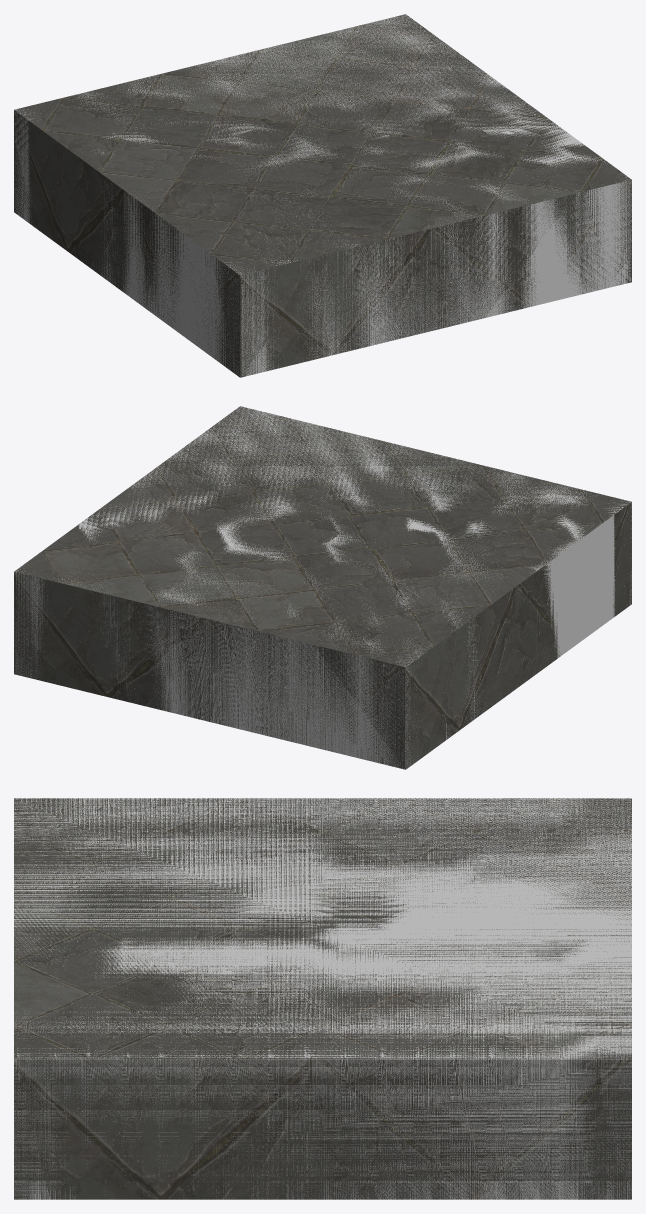
3 views of the same model, one above another, from view 1: azimuth 30°, elevation 25°; view 2: azimuth 150°, elevation 25°; view 3: azimuth 270°, elevation 25° (orthographic). The views are drawn at different scales.
Visible parts, largest first — view 1: SM_Floor_4x4, SM_Floor_4x4_ConvexHulls; view 2: SM_Floor_4x4, SM_Floor_4x4_ConvexHulls; view 3: SM_Floor_4x4, SM_Floor_4x4_ConvexHulls.
Boxes of the visible parts, box(x1,y1,x2,y2) form: SM_Floor_4x4: box(14, 14, 631, 377); SM_Floor_4x4_ConvexHulls: box(14, 15, 631, 377); SM_Floor_4x4: box(14, 406, 631, 769); SM_Floor_4x4_ConvexHulls: box(14, 406, 631, 769); SM_Floor_4x4: box(14, 798, 631, 1199); SM_Floor_4x4_ConvexHulls: box(14, 798, 631, 1199).
Bounding box in the file's own units: 400 × 400 × 100.
Materials: 2 (1 with a texture image).
